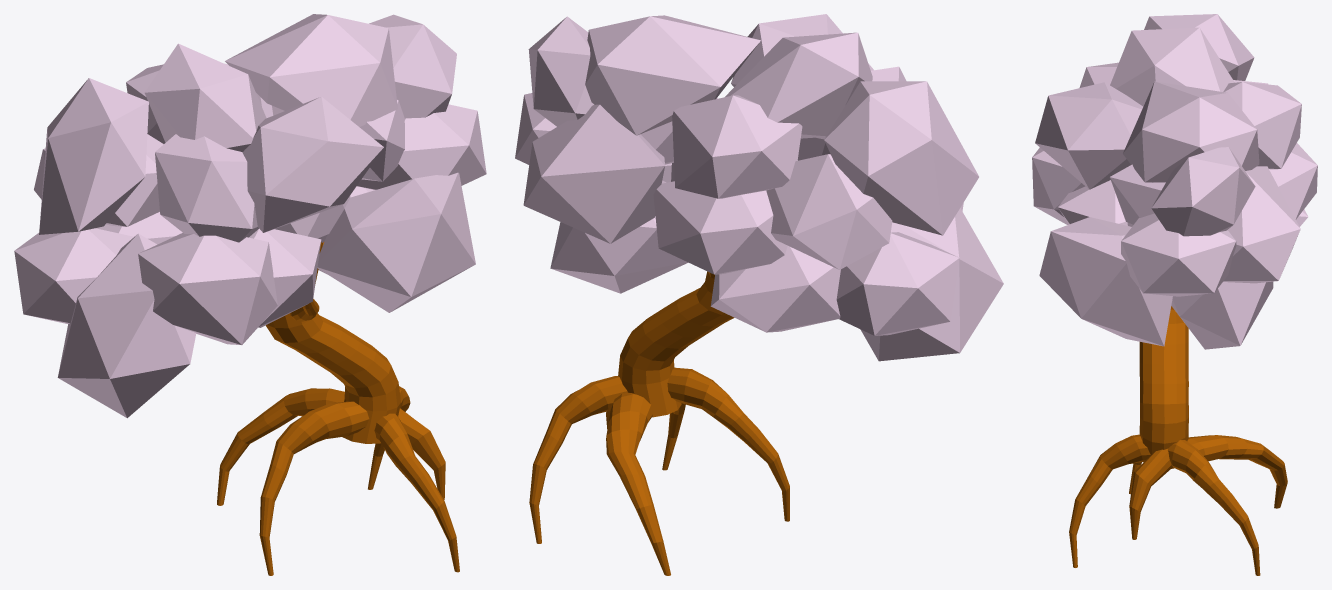
Rendered from huge_tree.fbx.
3 renders of one model, left to right at view 1: azimuth 30°, elevation 25°; view 2: azimuth 150°, elevation 25°; view 3: azimuth 270°, elevation 25°, orthographic. The views are drawn at different scales.
Parts seen in each view (by area): view 1: hugetree; view 2: hugetree; view 3: hugetree.
Part boxes in pixels (<box>): hugetree: <box>14,14,486,575</box>; hugetree: <box>515,14,1003,575</box>; hugetree: <box>1032,14,1317,575</box>.
Size of what is drawn, in the model's own units: 1867 by 2135 by 1222.
